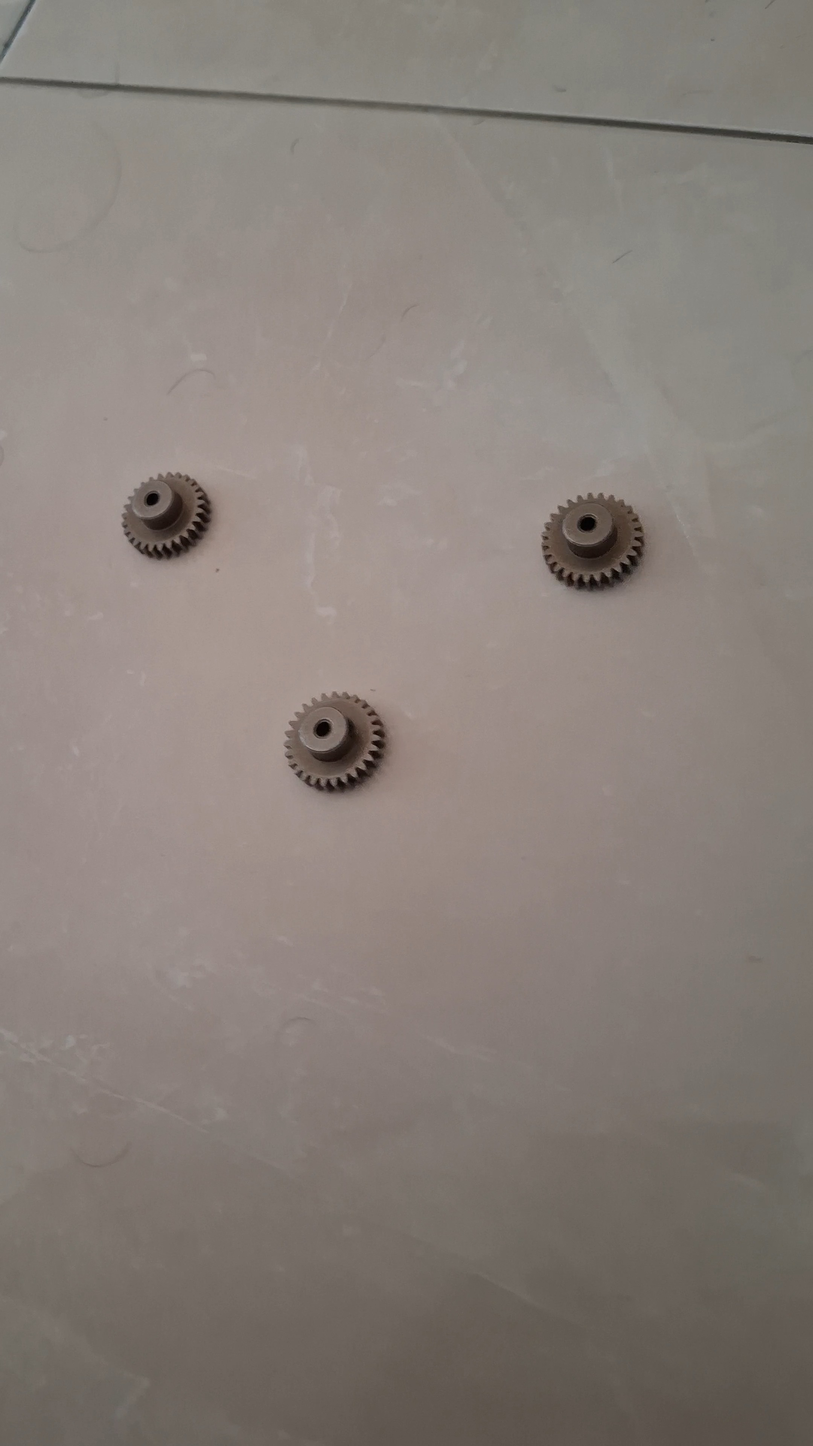spur gear: (542, 494, 644, 587), (286, 693, 384, 789), (123, 473, 210, 557)
